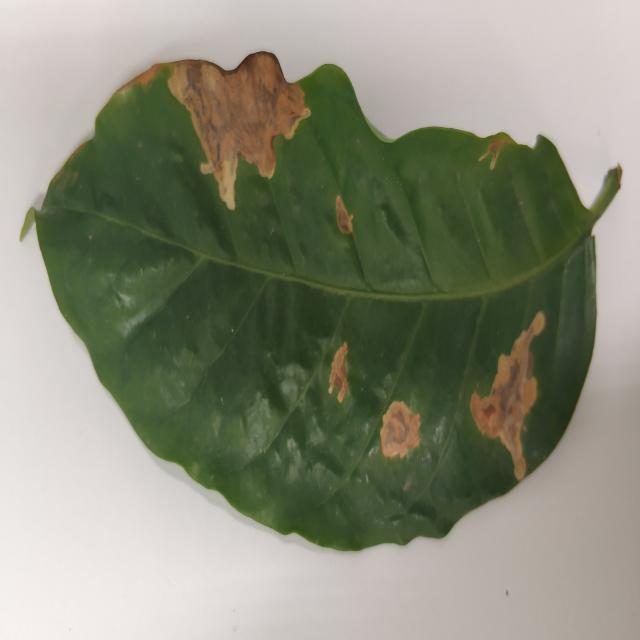Plaga-Minador: (28, 52, 622, 554)
